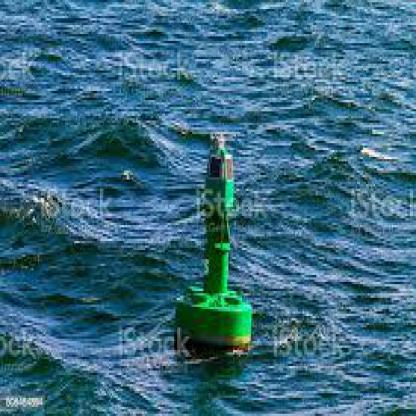buoy: (169, 121, 259, 359)
